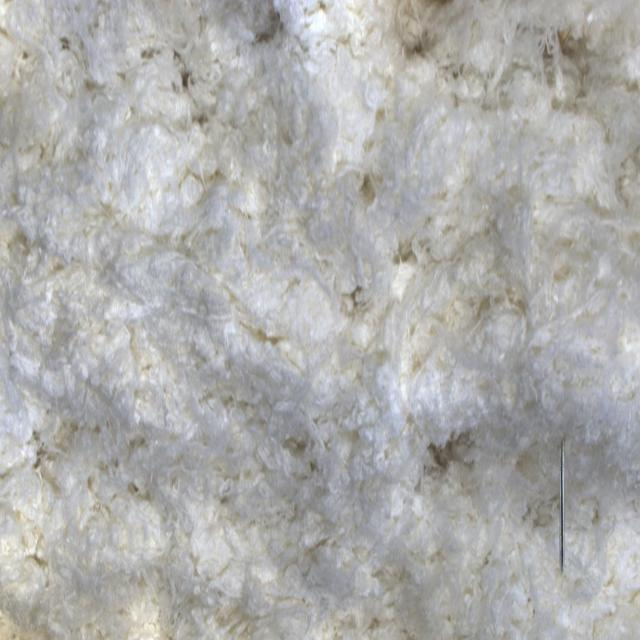dust: (505, 427, 640, 617)
